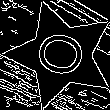O_E: (28, 26, 93, 84)
